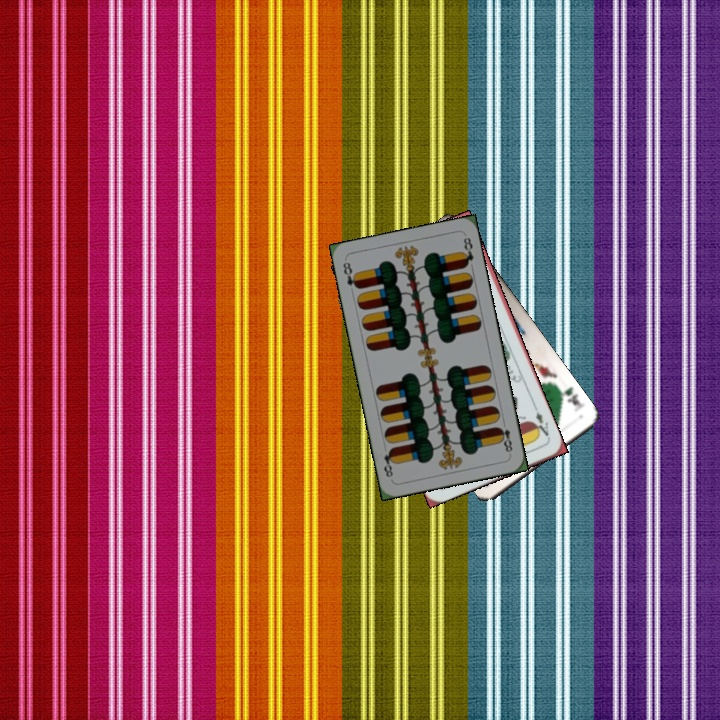E8: (494, 416, 515, 457), (339, 258, 362, 292)
EA: (529, 408, 552, 442)
GK: (555, 383, 588, 414)
